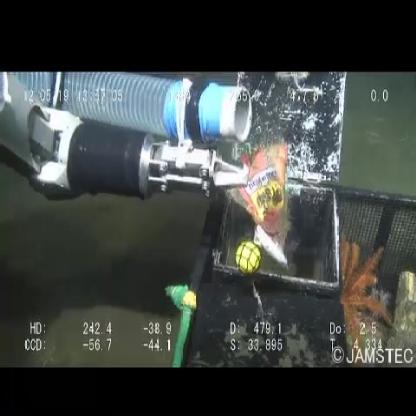Rov: (231, 73, 416, 360), (1, 73, 254, 215)
Rác: (230, 142, 293, 271)
